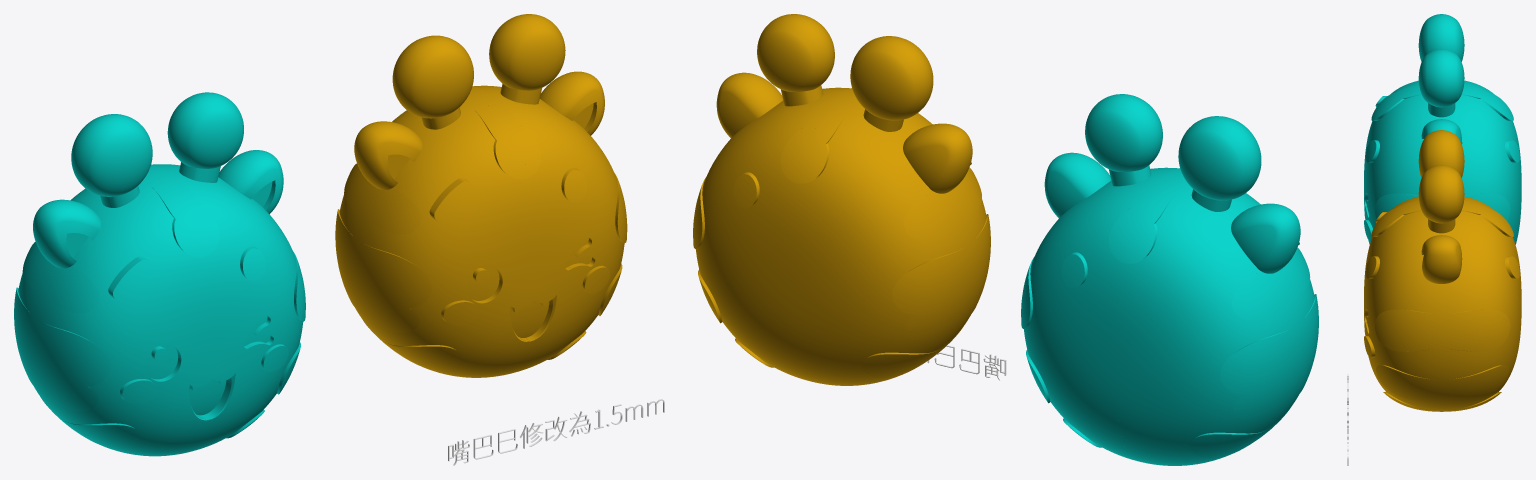
Rendered from Violin-v1.glb.
3 renders of one model, left to right at view 1: azimuth 30°, elevation 25°; view 2: azimuth 150°, elevation 25°; view 3: azimuth 270°, elevation 25°, orthographic. The views are drawn at different scales.
Visible parts, largest first — view 1: giraffe-New.003, giraffe-Old.001, giraffe-Old-Sec, giraffe-New-Sec, 1; view 2: giraffe-New.003, giraffe-Old.001, giraffe-New-Sec, giraffe-Old-Sec, 1; view 3: giraffe-New-Sec, giraffe-Old-Sec, giraffe-New.003, giraffe-Old.001.
Part boxes in pixels (left/top/right/bottom): giraffe-New.003: left=335, top=35, right=534, bottom=377; giraffe-Old.001: left=14, top=114, right=212, bottom=456; giraffe-Old-Sec: left=149, top=92, right=305, bottom=451; giraffe-New-Sec: left=470, top=14, right=627, bottom=372; 1: left=448, top=399, right=664, bottom=465; giraffe-New.003: left=787, top=36, right=990, bottom=385; giraffe-Old.001: left=1115, top=116, right=1318, bottom=465; giraffe-New-Sec: left=693, top=14, right=853, bottom=380; giraffe-Old-Sec: left=1021, top=94, right=1181, bottom=460; 1: left=927, top=345, right=1006, bottom=380; giraffe-New-Sec: left=1364, top=165, right=1521, bottom=411; giraffe-Old-Sec: left=1364, top=49, right=1521, bottom=244; giraffe-New.003: left=1364, top=130, right=1521, bottom=289; giraffe-Old.001: left=1364, top=14, right=1521, bottom=173.
Size of the model in its own units: 0.107 by 0.0661 by 0.0381.
